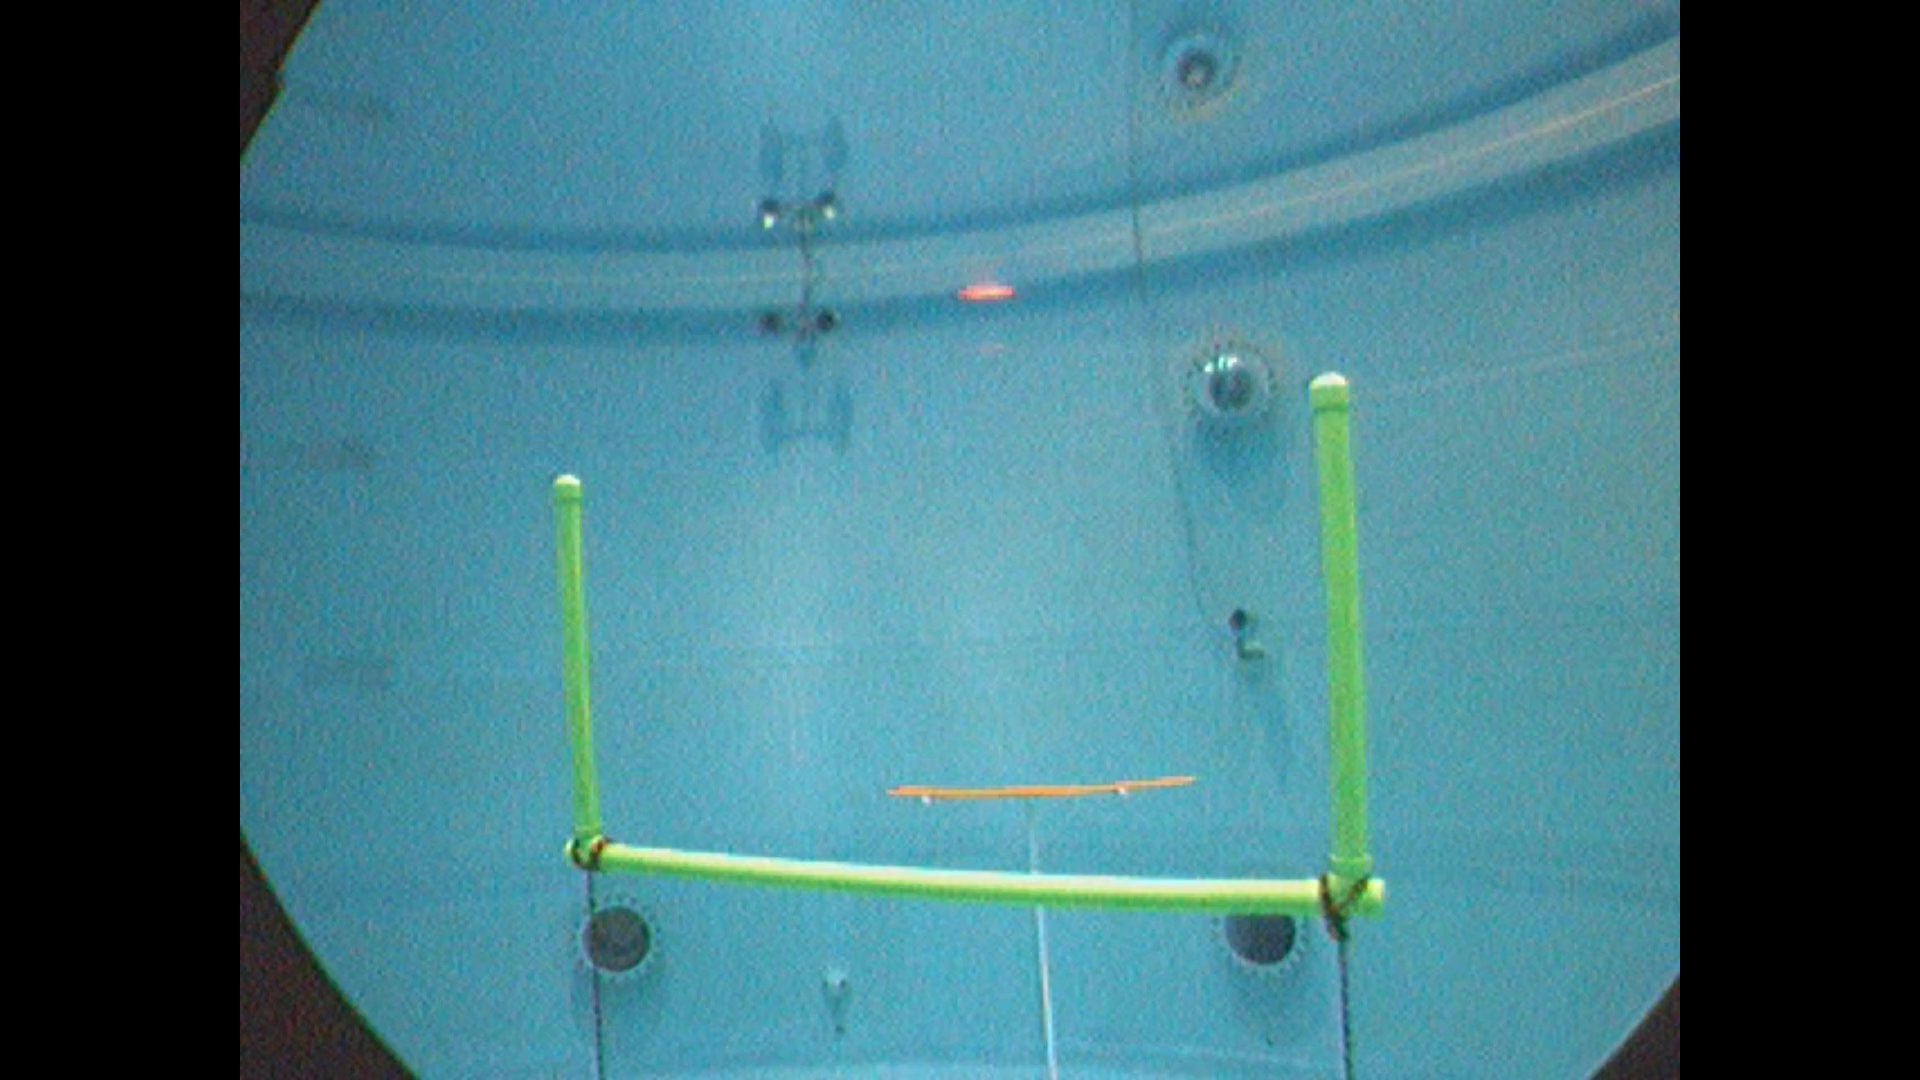gate: (553, 367, 1377, 911)
